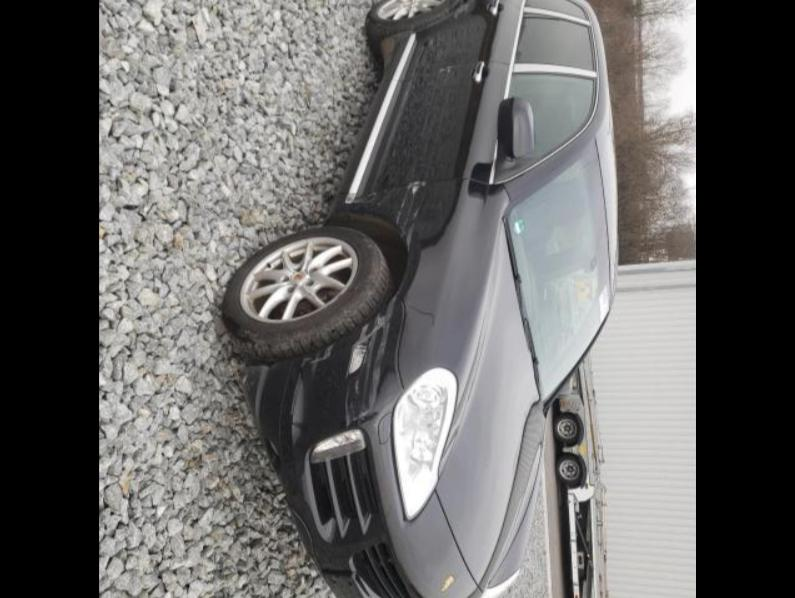Broken part: (336, 208, 402, 232)
Dent: (296, 360, 348, 450), (376, 306, 402, 397)
Paint chip: (348, 314, 386, 374), (406, 303, 436, 326), (310, 342, 334, 362)
Scratch: (344, 301, 392, 426), (400, 180, 426, 232), (406, 206, 420, 250), (394, 196, 406, 225), (354, 192, 376, 204), (452, 2, 468, 18), (452, 3, 468, 18), (438, 64, 450, 72)
